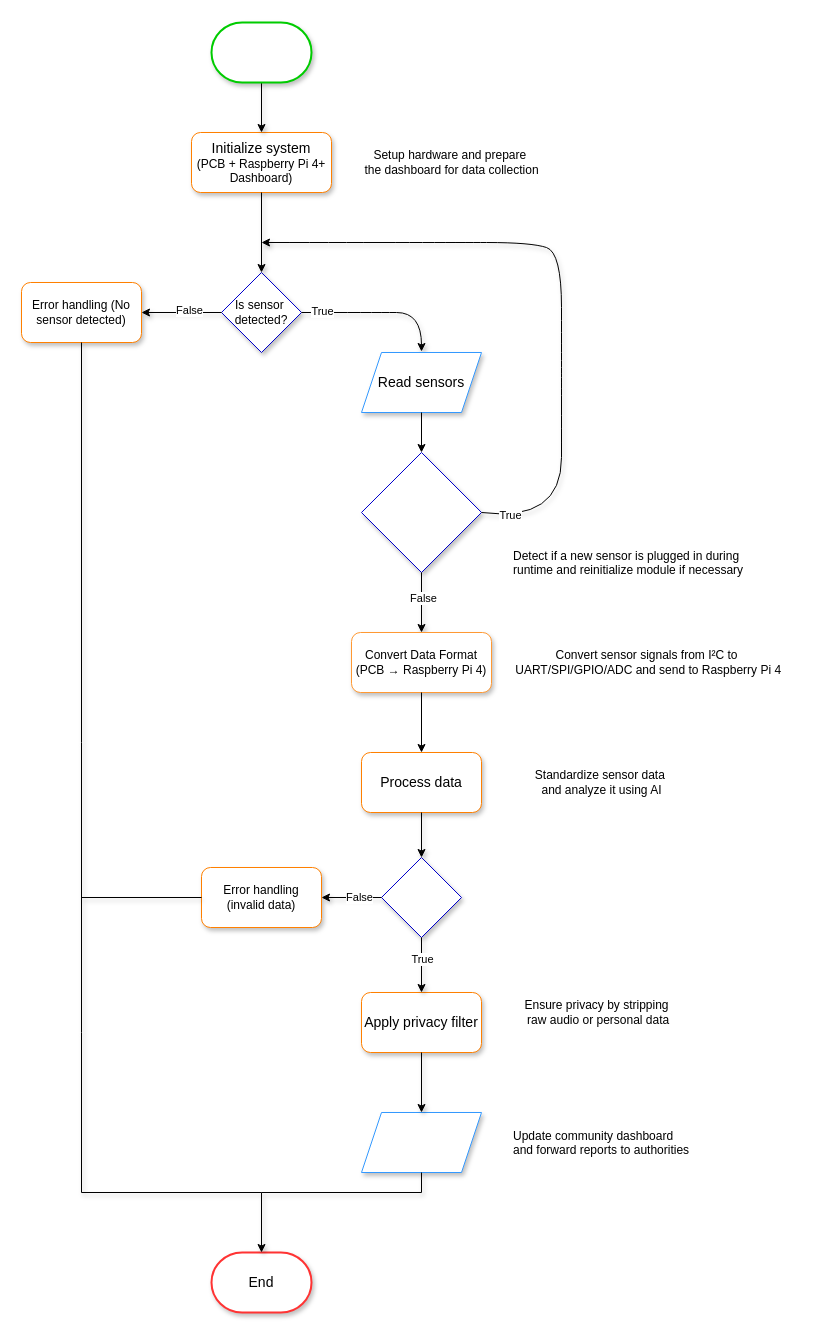
This 815x1337 diagram has some shape labels left out. Here are the shapes that lost their labels. From the top down, the centre of each, then its label:
point 262,53: Start
point 422,514: Hot-swap Check: New Sensor Connected?
point 422,898: Is data vaild?
point 422,1144: Send report + Update Dashboard
